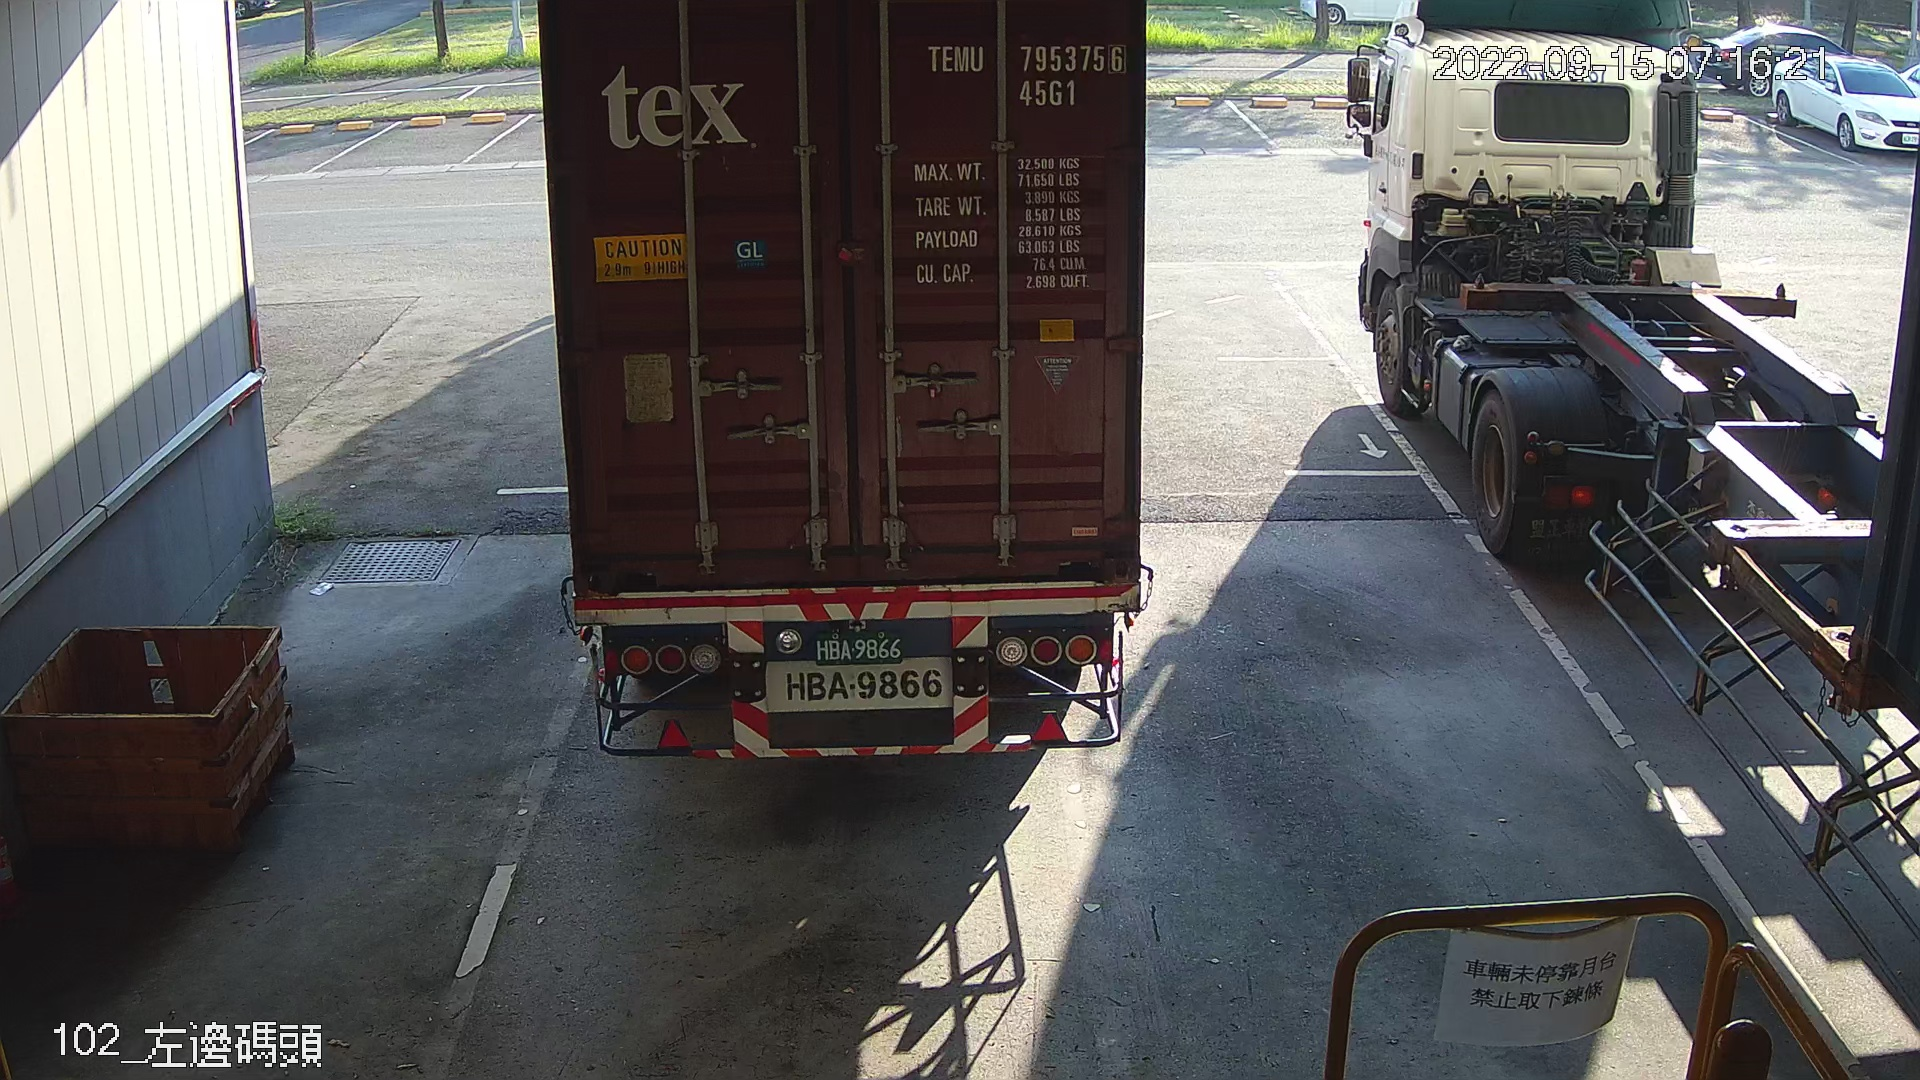container: (910, 30, 1137, 113)
